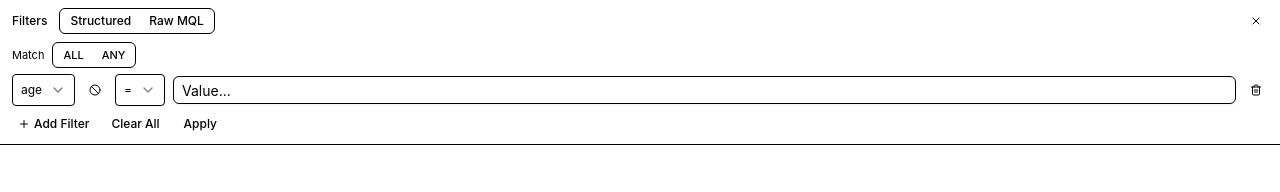
Scenario: DocumentFilterBar › renders the Raw MQL CodeMirror editor with role=textbox
Click the radio button labelled "Raw MQL" at coordinates (176, 21), box top-left (141, 11), bottom-right (212, 31)
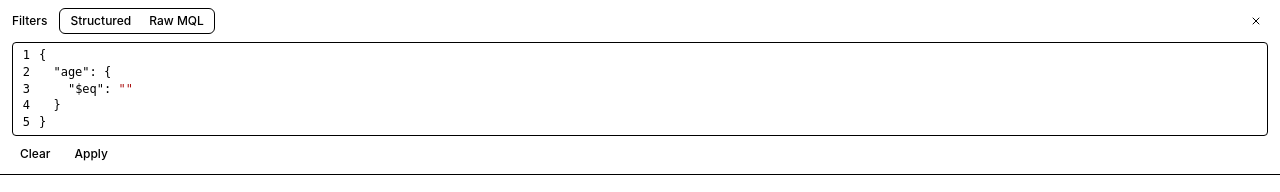
Expected: the element with class "cm-editor" is shown, top-left (23, 48), bottom-right (133, 129)
